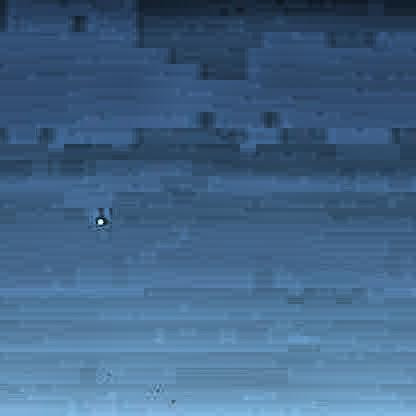golfball: (93, 213, 105, 223)
